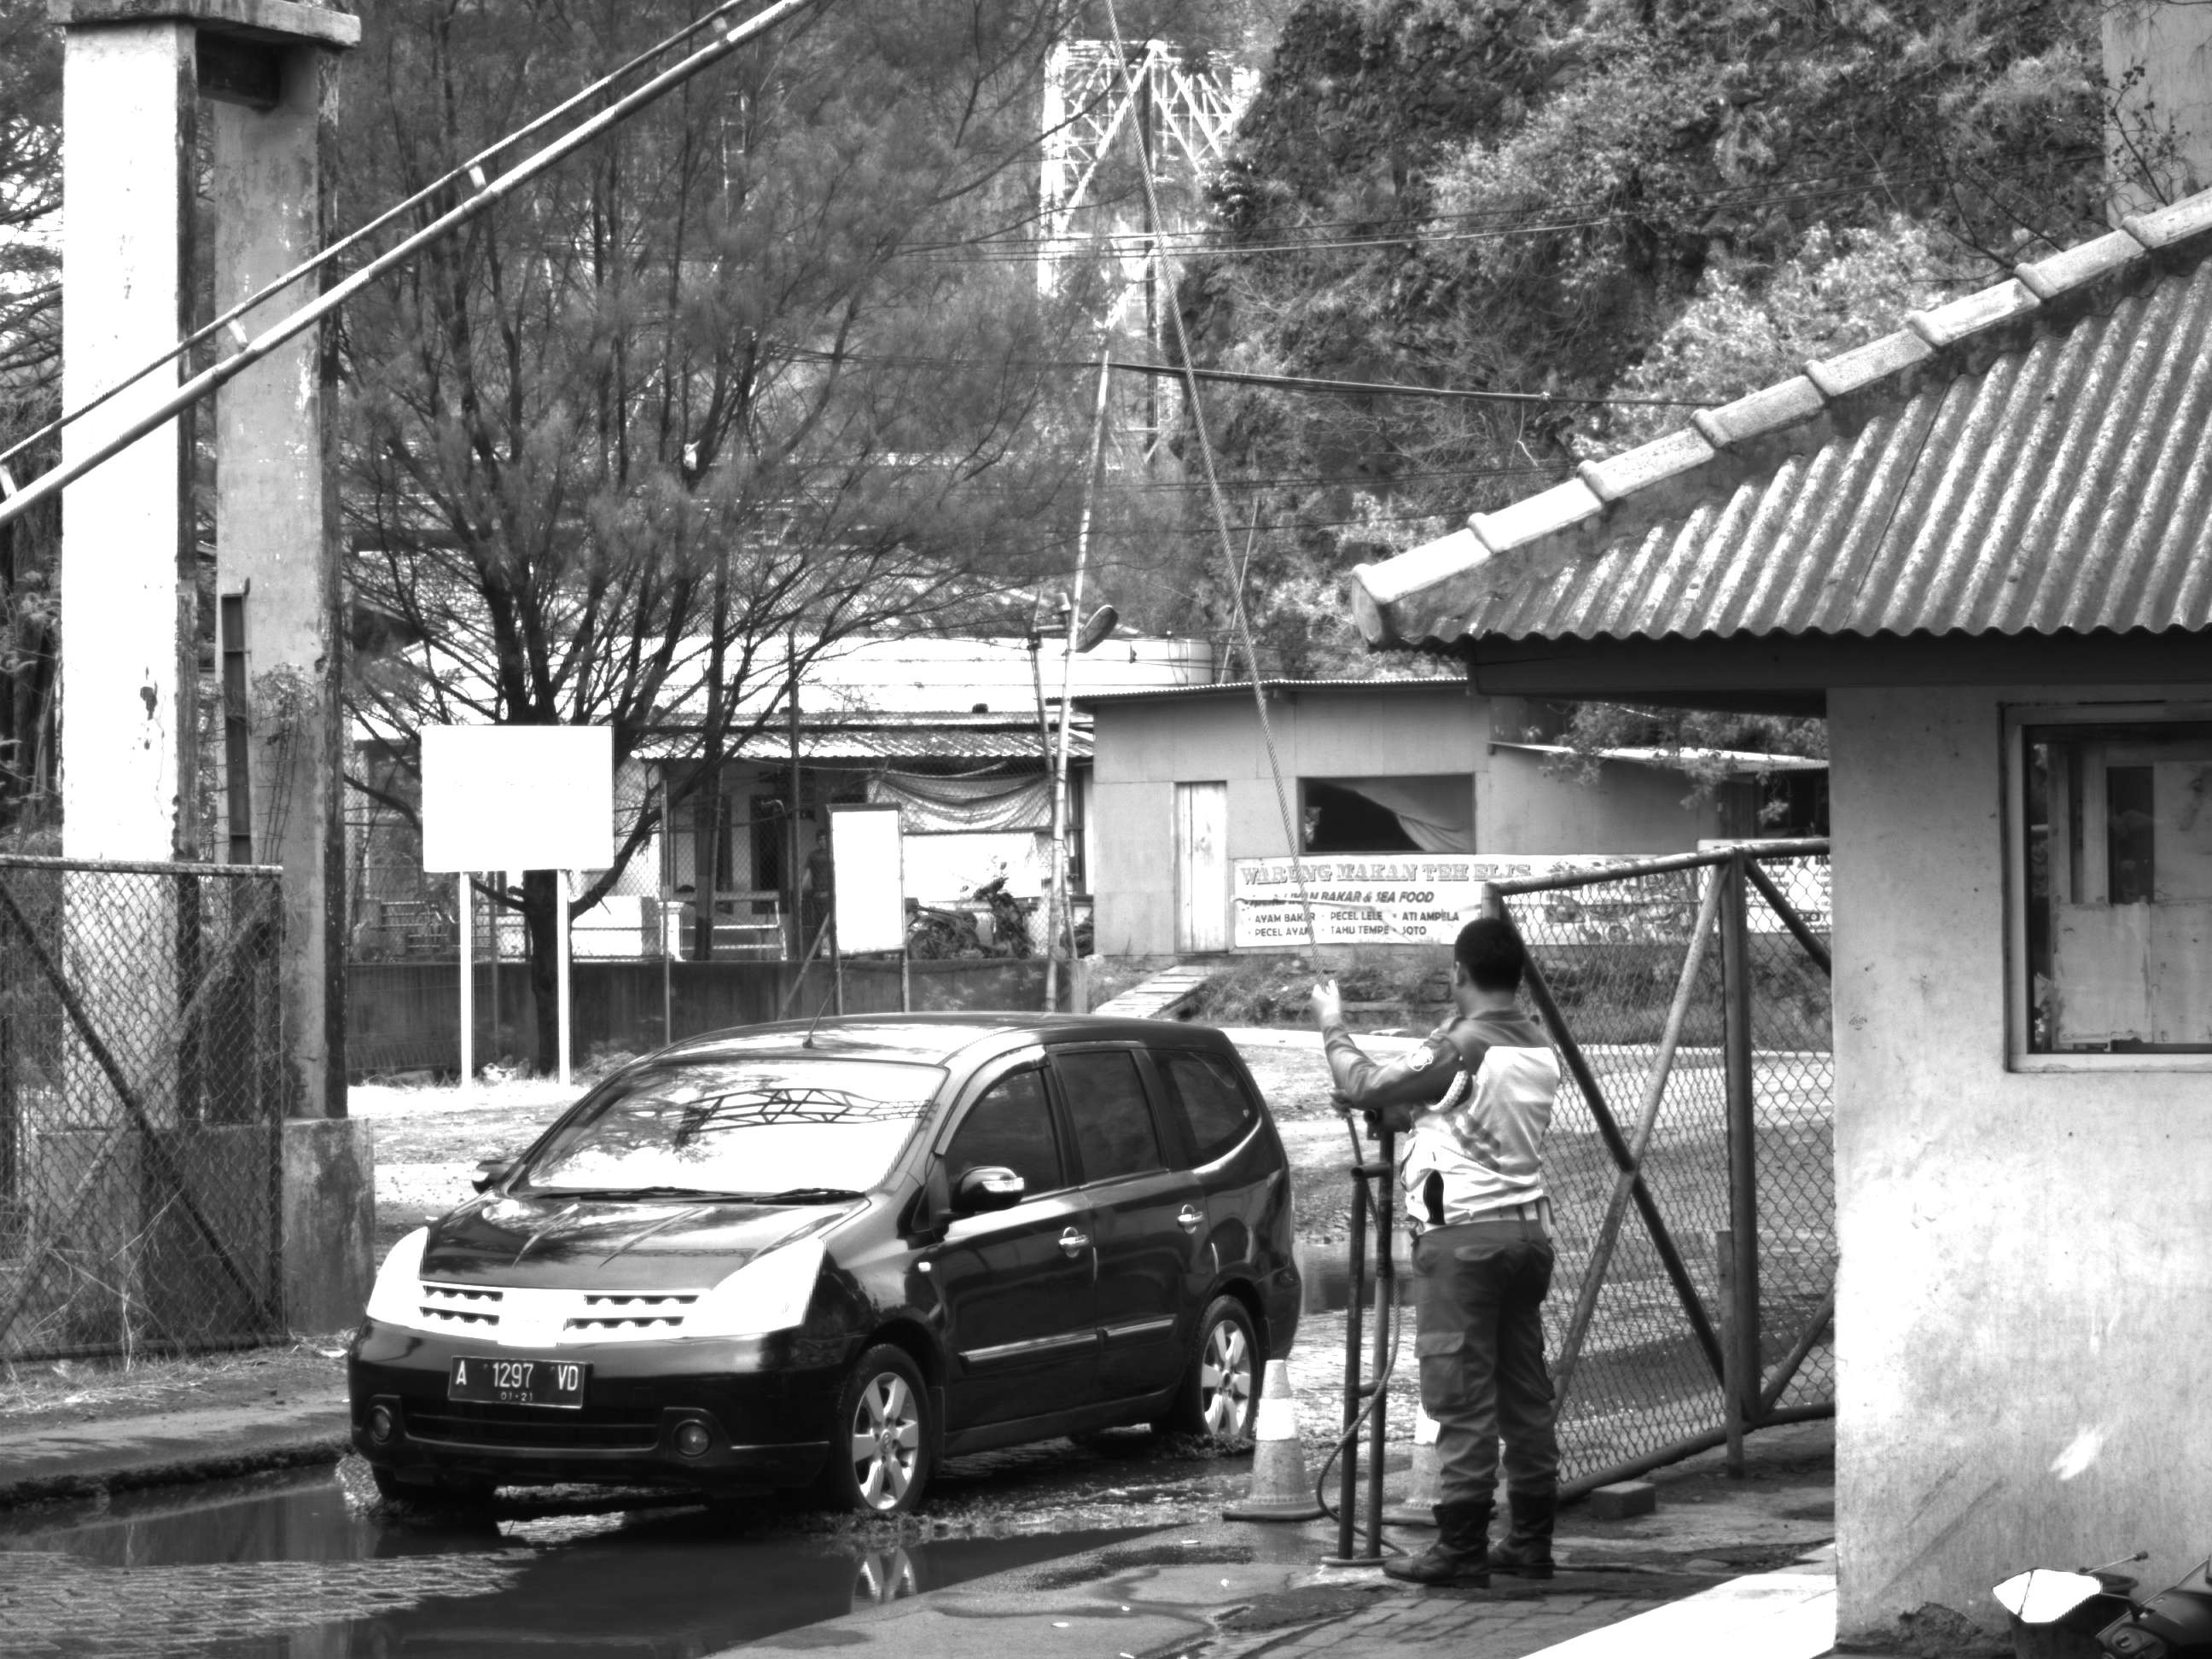day_small_front: (336, 1006, 969, 1539)
plate: (440, 1341, 594, 1419)
